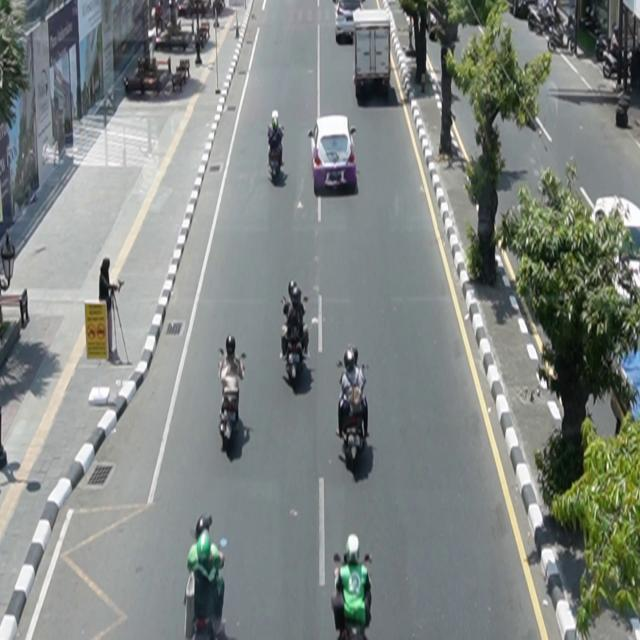car: (309, 114, 358, 195)
truck: (353, 9, 392, 98)
